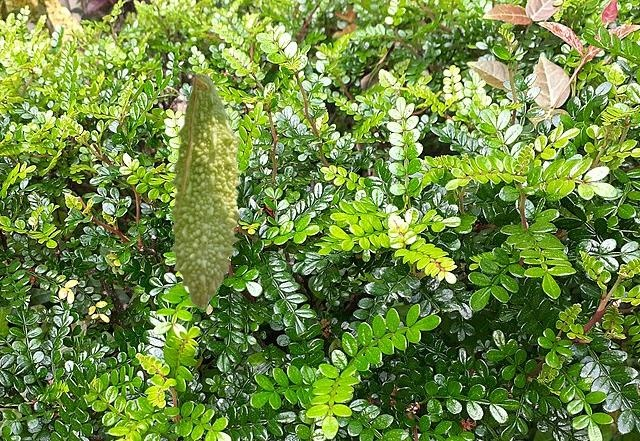ampalaya: (167, 72, 244, 310)
